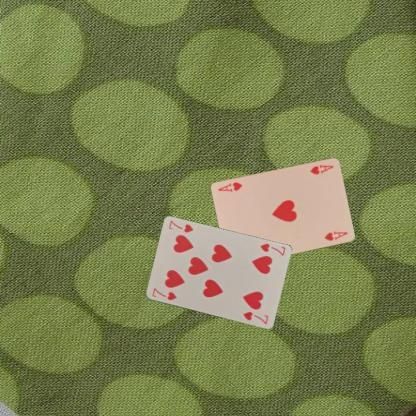7h: (257, 241, 287, 257), (149, 286, 178, 302)
Ah: (308, 162, 335, 176)
